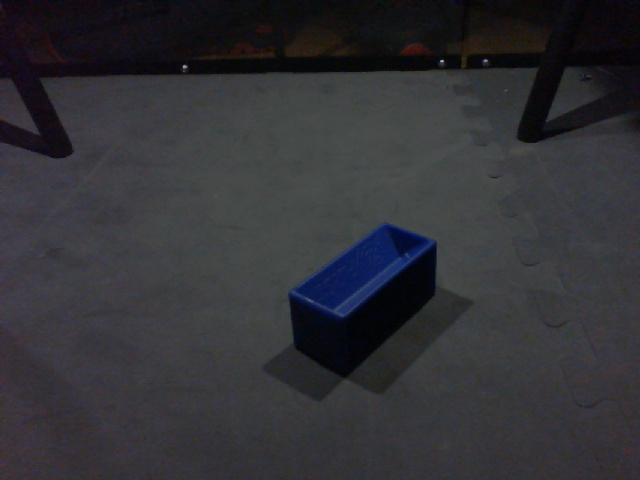BlueSample: (285, 220, 436, 377)
